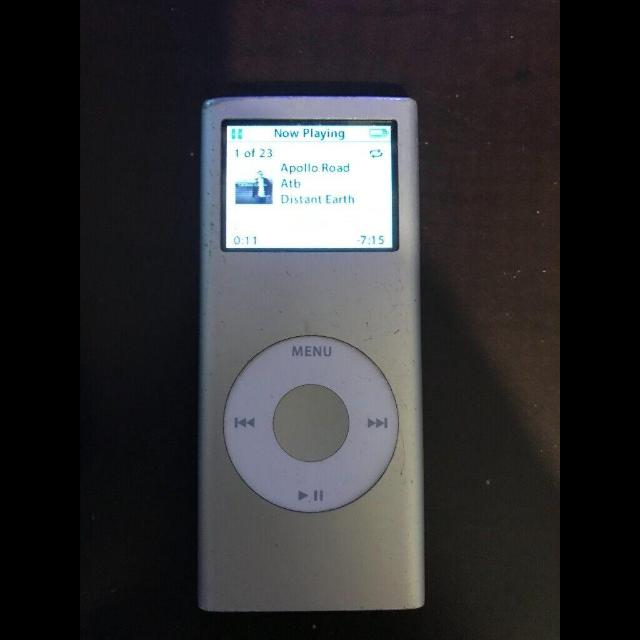Music-Player: (185, 86, 435, 620)
